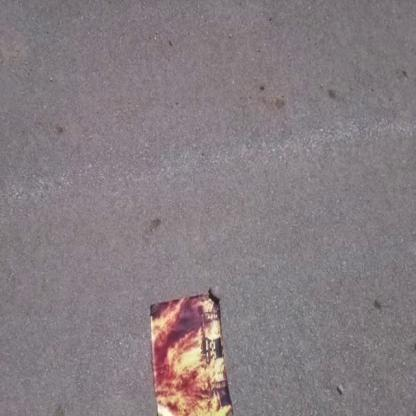fire-poster: (148, 287, 235, 415)
